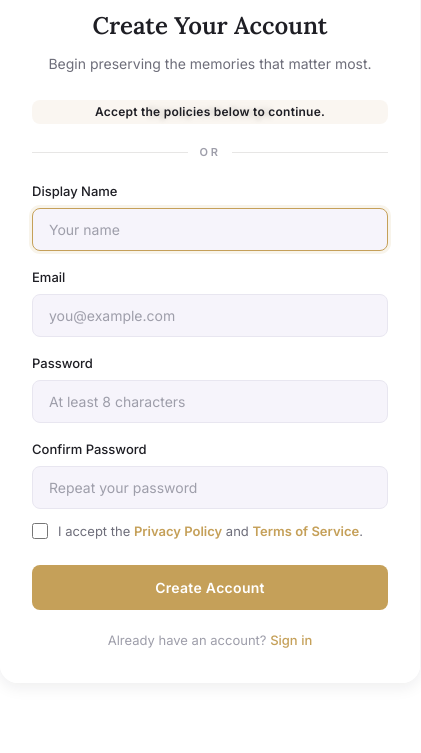
Test: RegisterPage › shows a warning for unsupported email providers before submit
Type "john@example.com" into the field labelled "Email" at coordinates (210, 316), box x1=32 y1=294 x2=388 y2=337
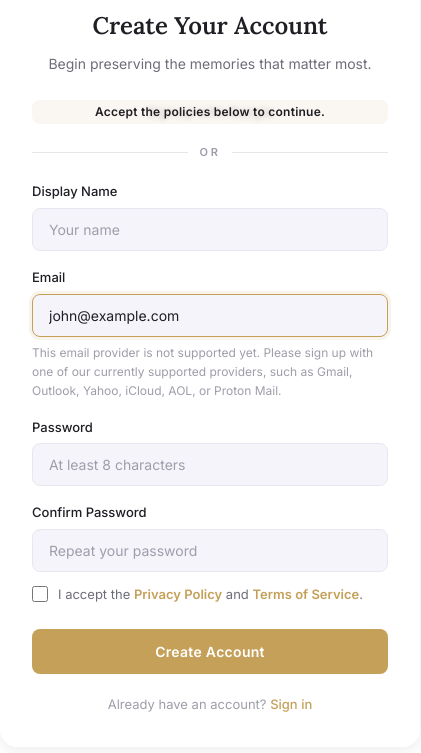
Now the text "This email provider is not supported yet" is shown, box x1=32 y1=345 x2=373 y2=398
